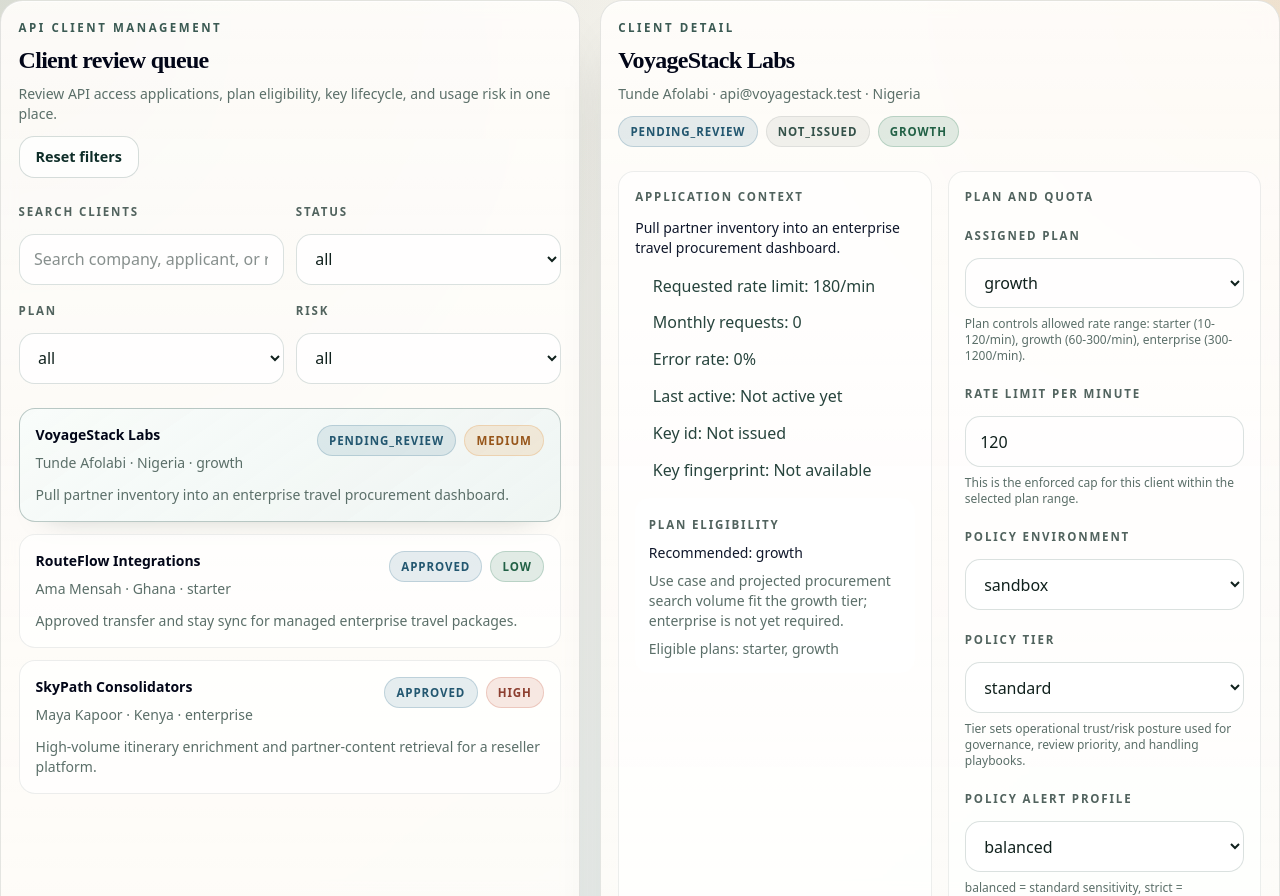
Scenario: ApiClientsWorkspace › issues keys for approved clients
Click the button "RouteFlow Integrations": (118, 560) 19,534 -> 561,648
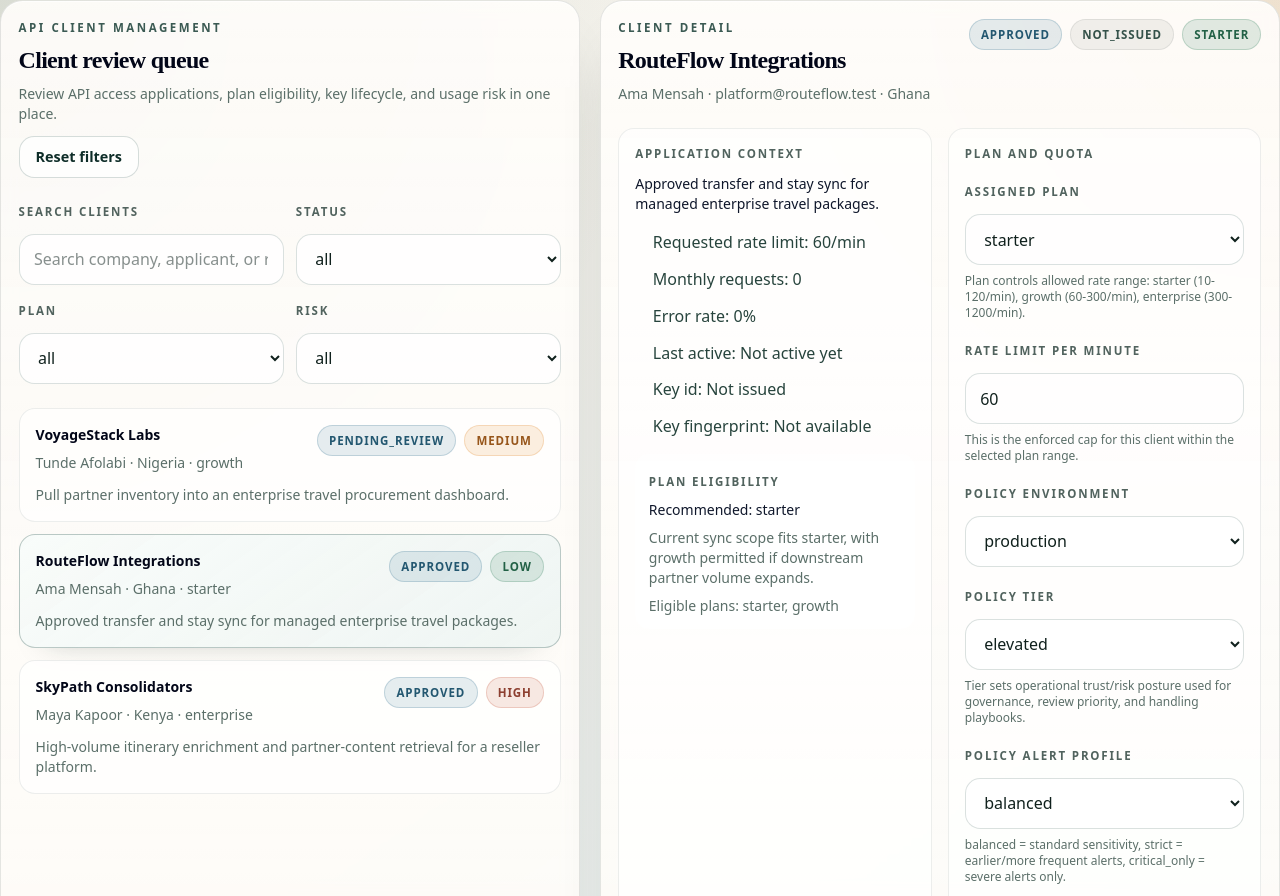
Replace the text in the number field showing "60" with "80": (1105, 399) 965,373 -> 1244,424
(page scrolled)
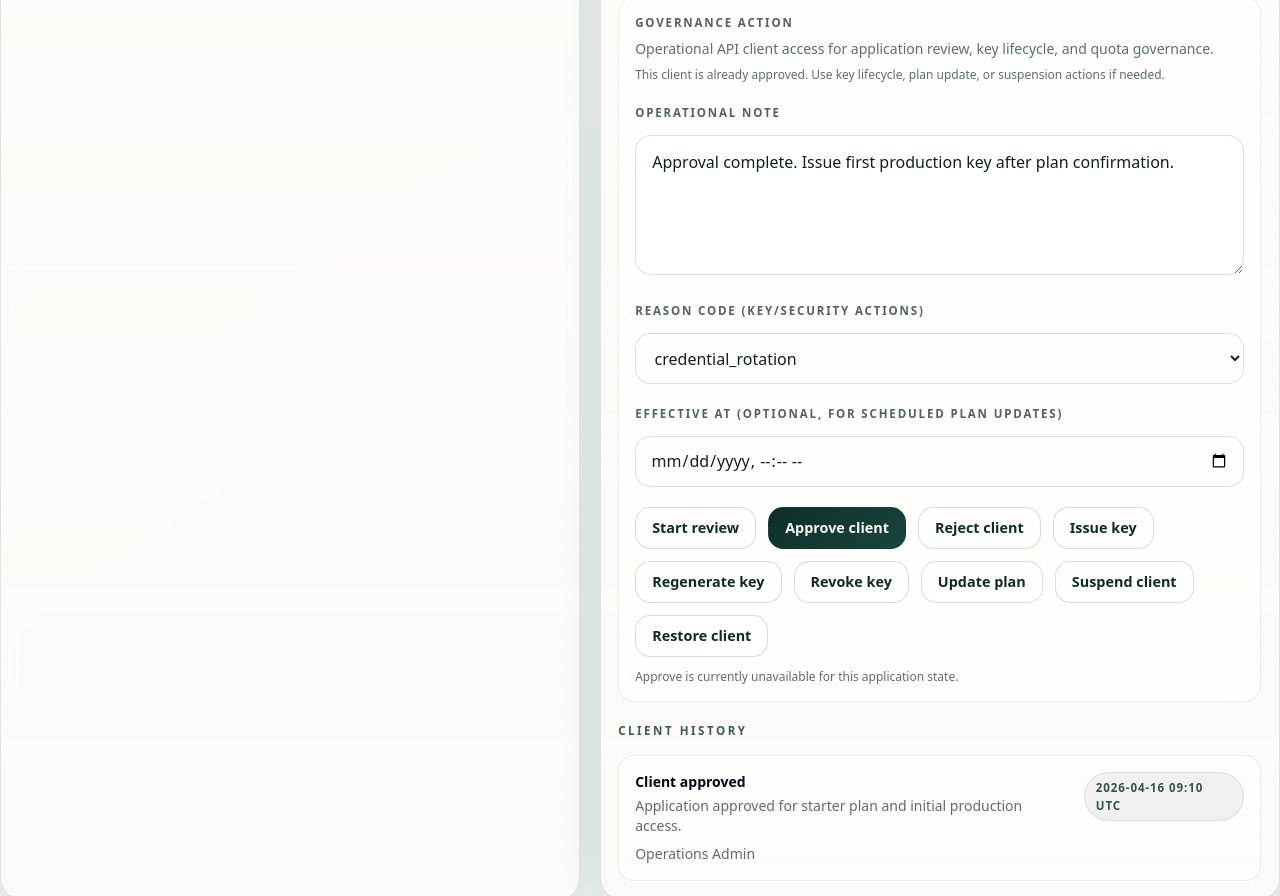
Click the button "Issue key": (1103, 528) 1053,507 -> 1154,549
(page scrolled)
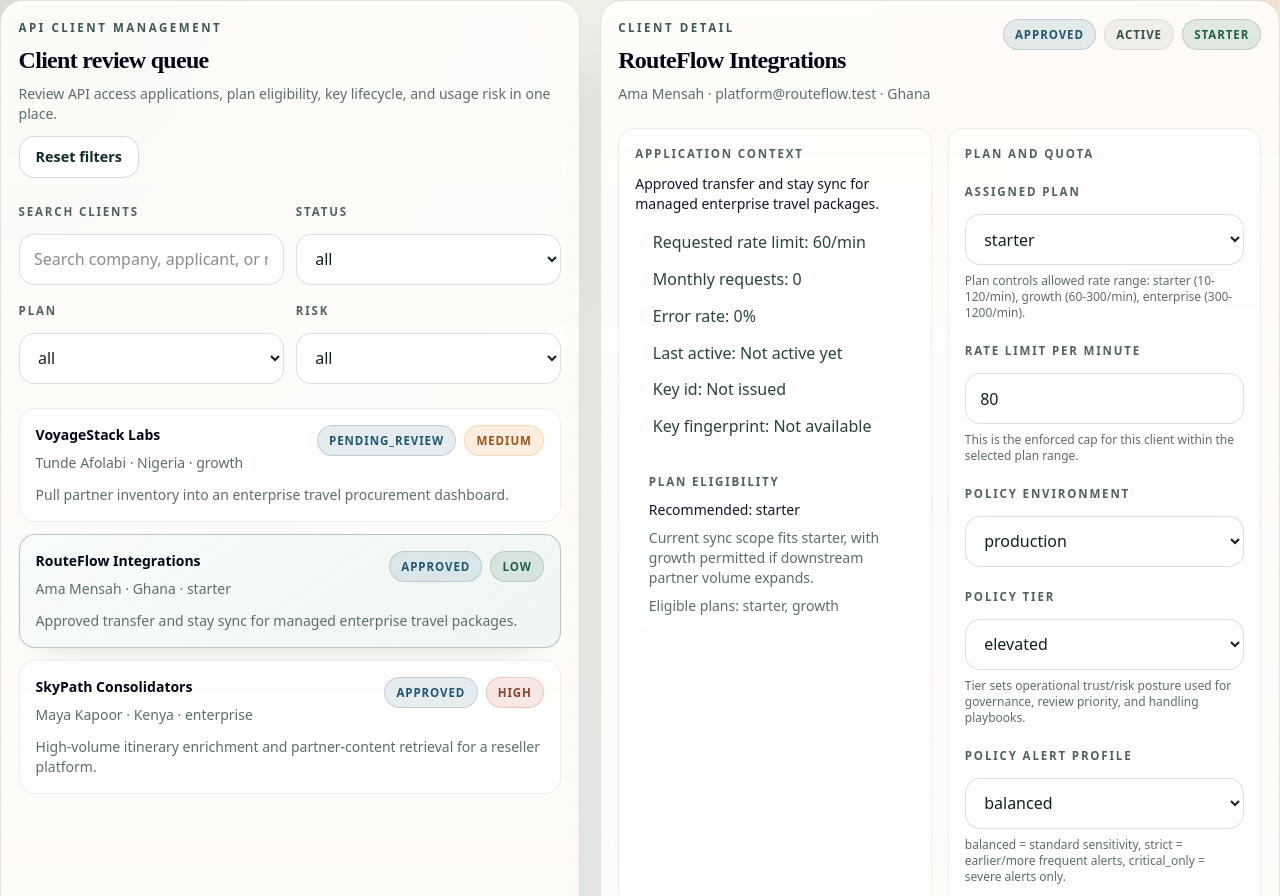
Expected: the text "active" is shown, 1104,19 -> 1174,50
